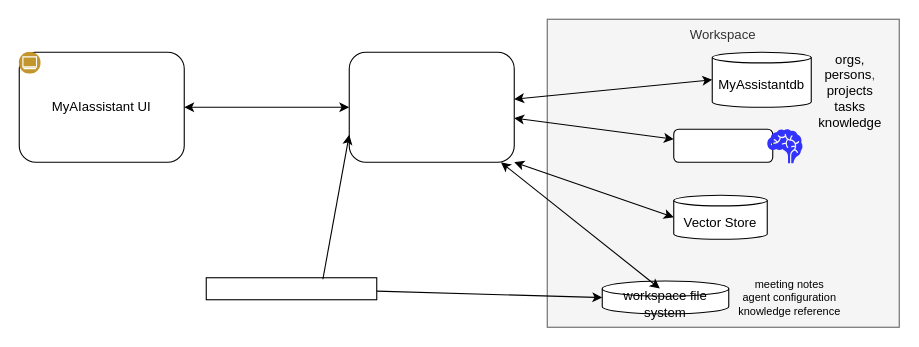
Some shapes in this 919 by 347 pixel diagram are drawn without their labels. Here are the shapes that lost their labels. From the top down, the box of each, then its label:
(348, 51, 514, 162): MyAIassistant backend
(673, 128, 773, 162): Local LLM
(205, 277, 377, 300): ai_assist CLI
